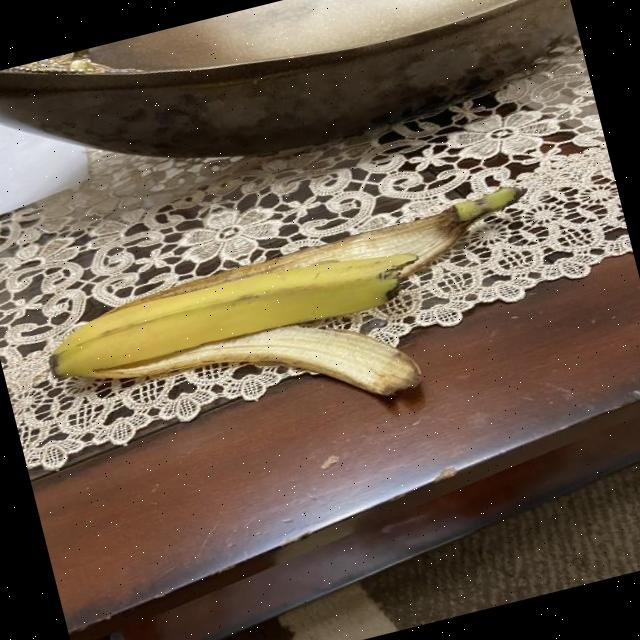banana-peel: (31, 180, 561, 475), (32, 180, 540, 388), (62, 290, 426, 472)
